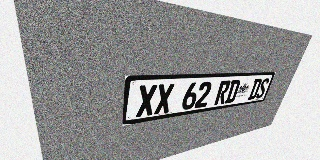2: (194, 81, 213, 108)
6: (181, 82, 200, 110)
D: (224, 80, 241, 104), (247, 78, 263, 100)
R: (214, 80, 231, 105)
S: (255, 78, 270, 99)
X: (136, 84, 157, 117), (154, 83, 175, 115)
